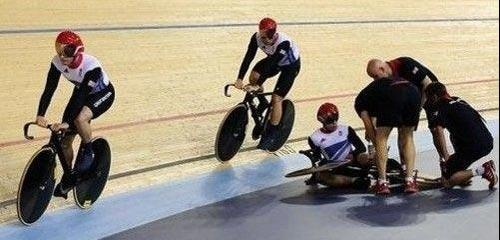falling: (316, 148, 496, 196)
